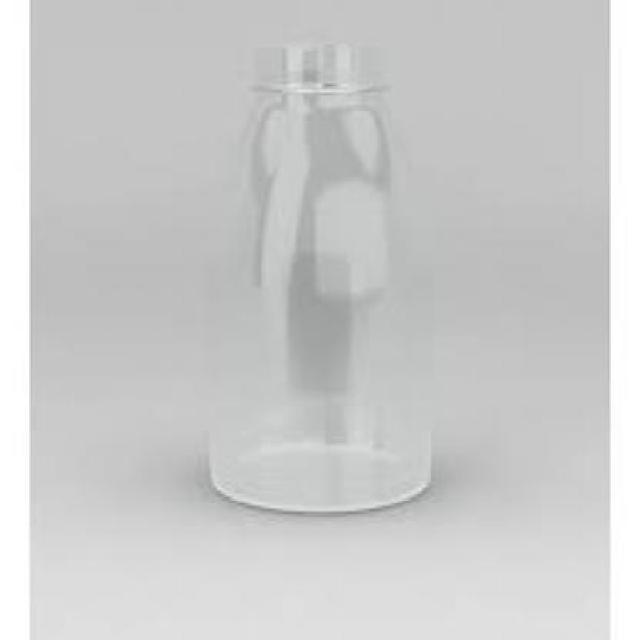kaca: (203, 42, 431, 509)
